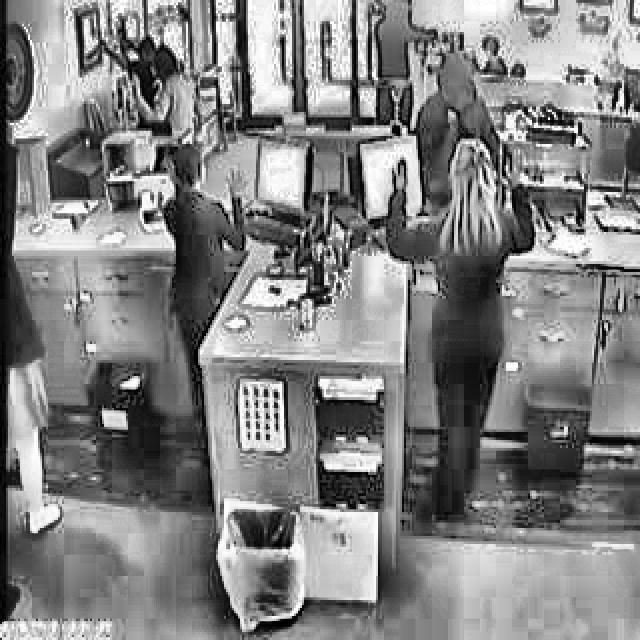robbery: (372, 2, 506, 202), (380, 155, 540, 270), (94, 14, 201, 127), (155, 140, 257, 257)
